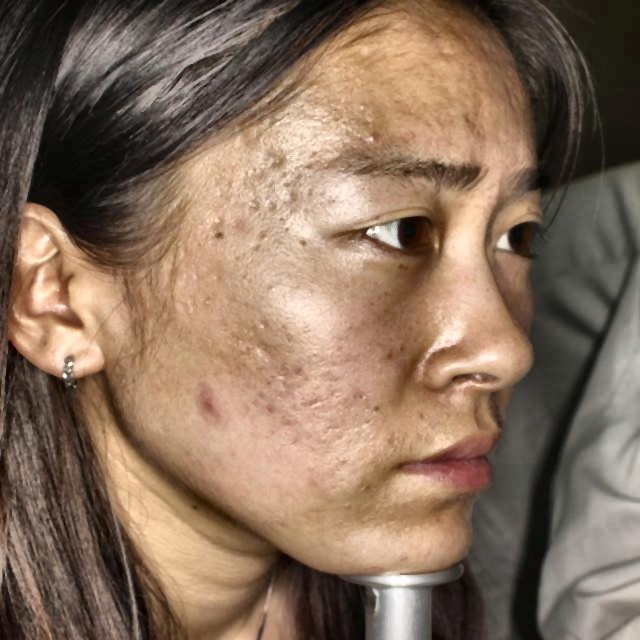comedone: (198, 387, 222, 420)
